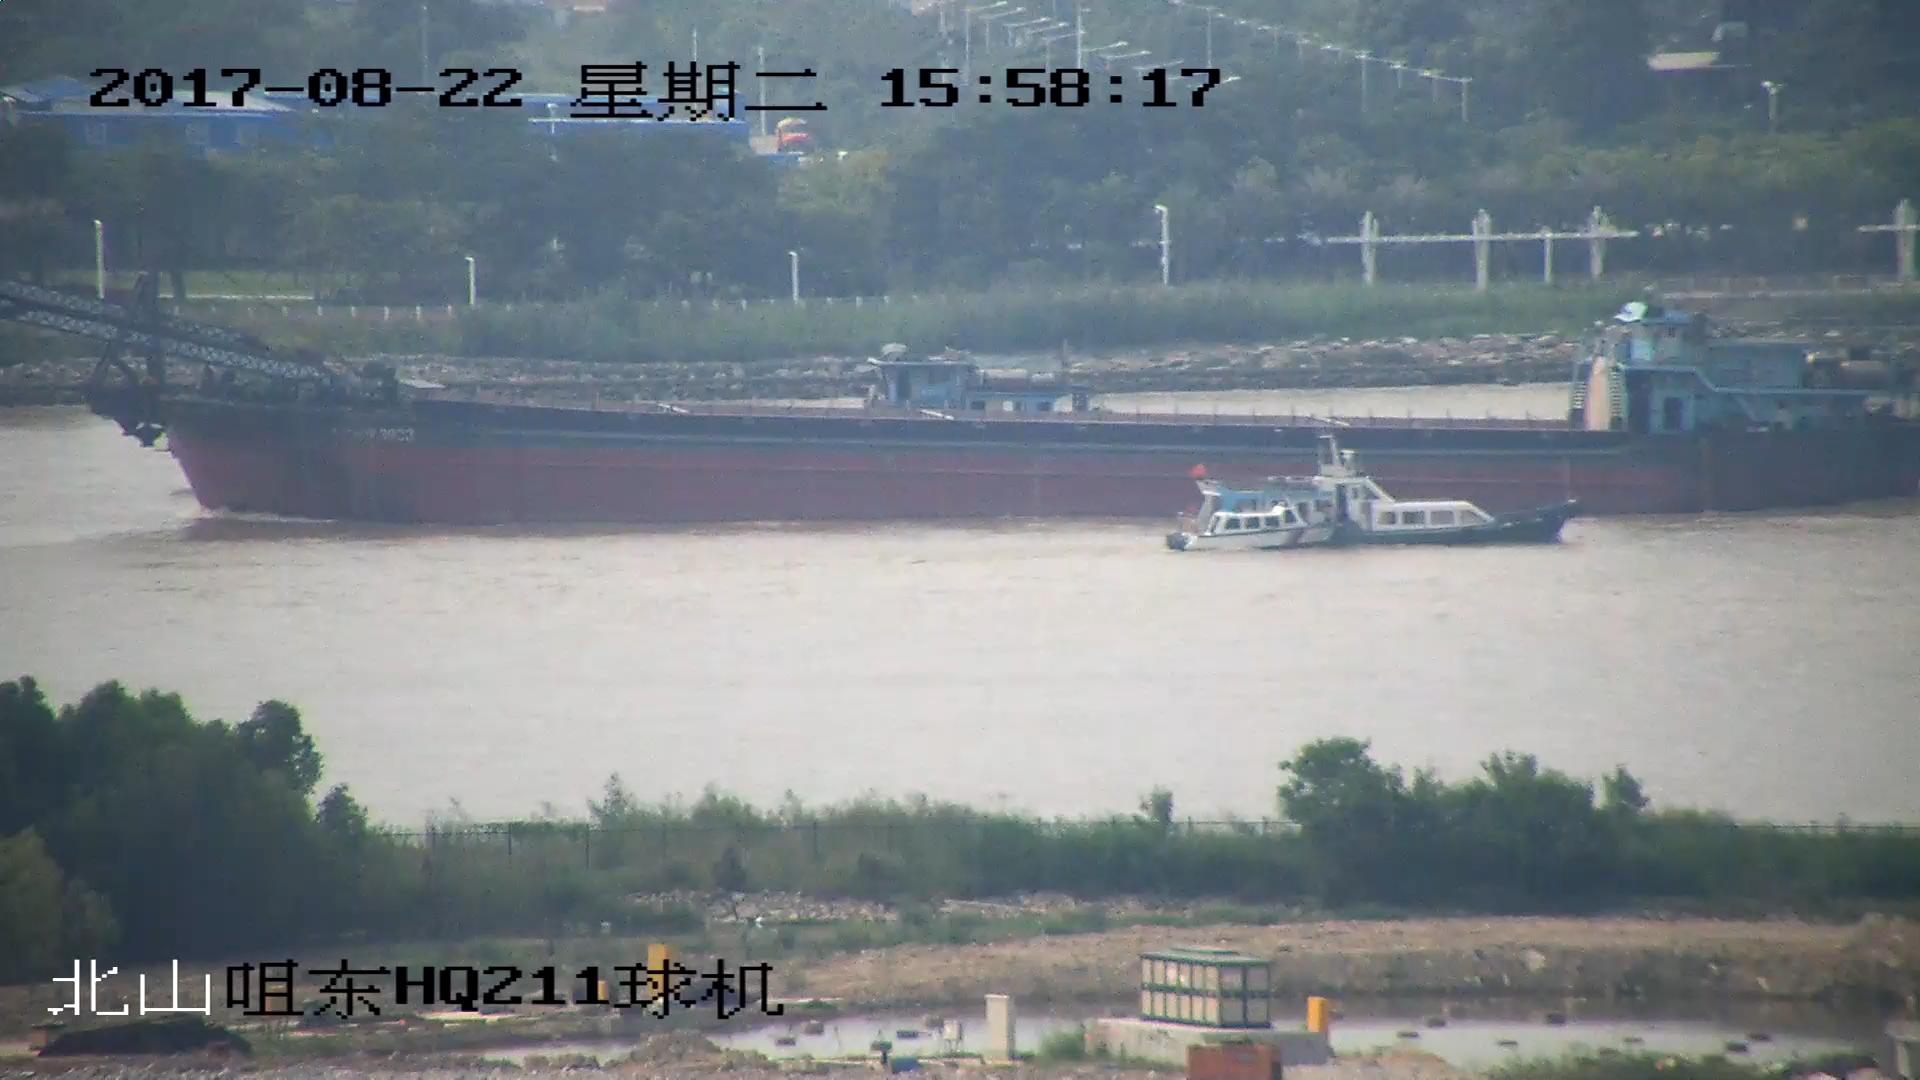bulk cargo carrier: (1, 282, 1920, 529)
fishing boat: (1161, 431, 1574, 552)
